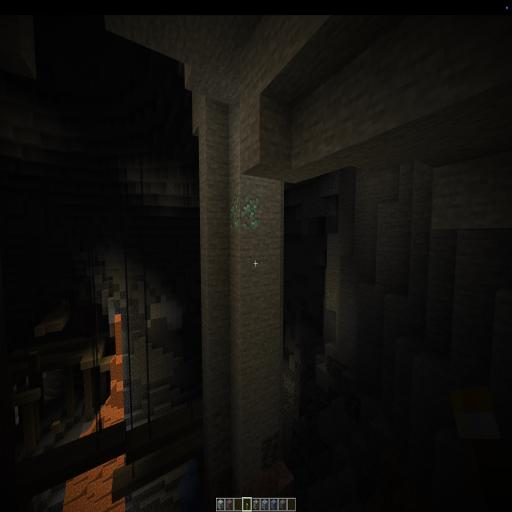diamond ore: (229, 193, 260, 236)
